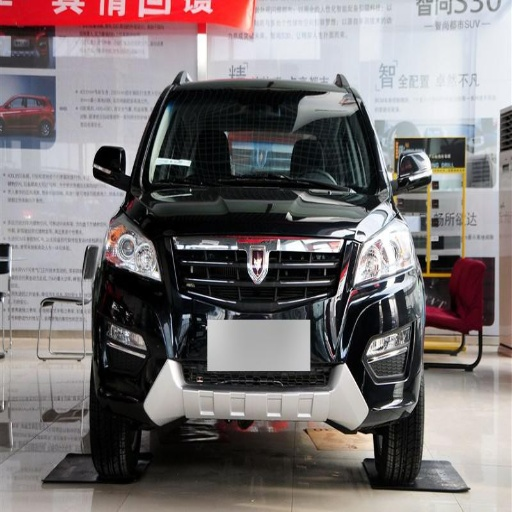front_bumper: (99, 236, 416, 427)
front_right_light: (106, 218, 161, 282)
hood: (126, 183, 391, 237)
